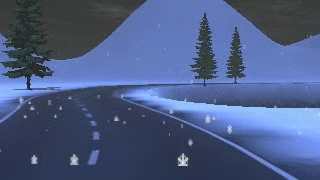Lane: (0, 84, 293, 179)
